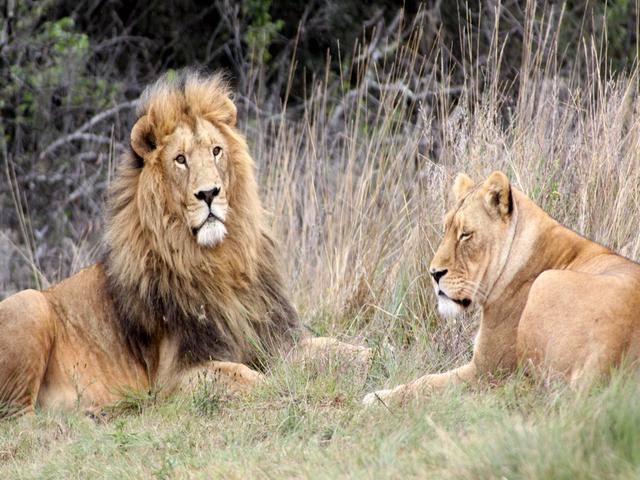lion: (8, 51, 310, 413), (371, 134, 640, 400)
